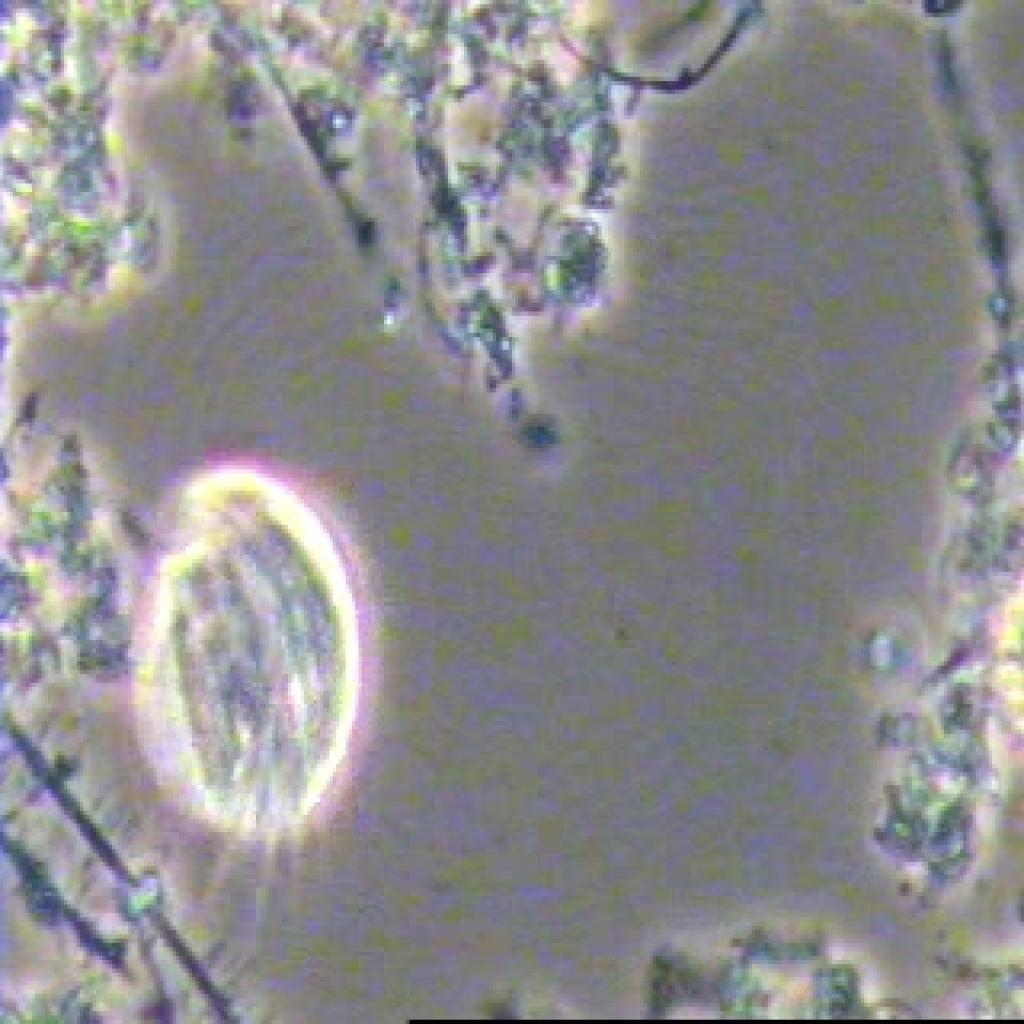Aspidisca: (123, 431, 402, 930)
